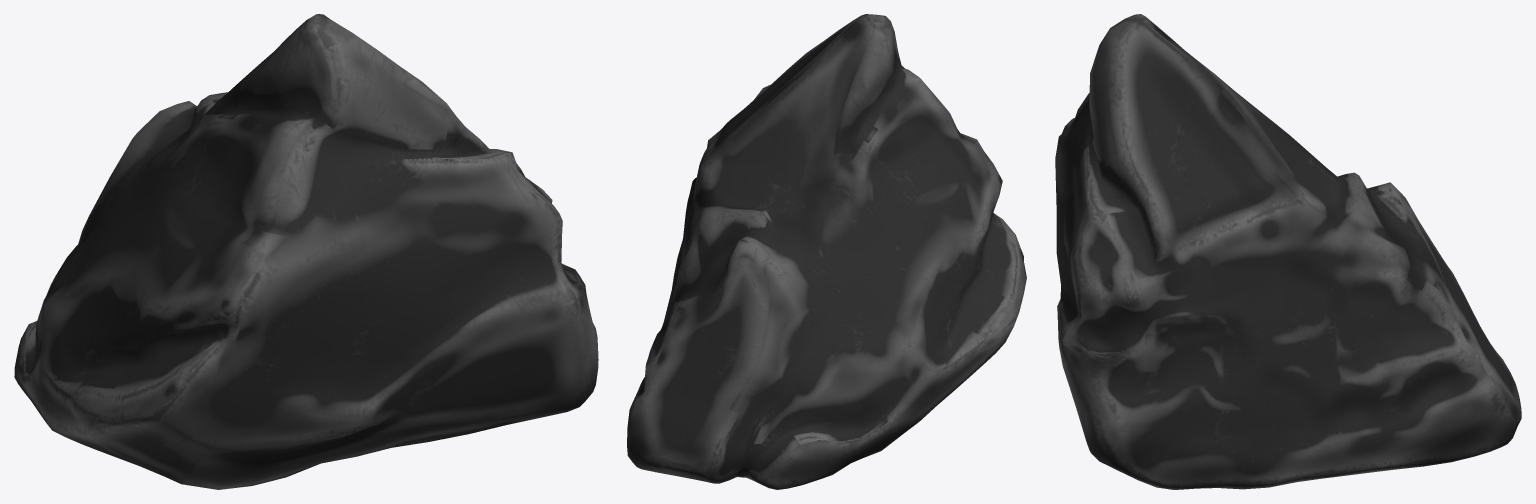
Rendered from stylized_rock_low_poly.fbx.
The picture shows the model from 3 angles, left to right: view 1: azimuth 30°, elevation 25°; view 2: azimuth 150°, elevation 25°; view 3: azimuth 270°, elevation 25°; orthographic projection. The views are drawn at different scales.
Visible parts, largest first — view 1: g; view 2: g; view 3: g.
Boxes of the visible parts, x1,y1,x2,y2 form: g: (14,14,598,489); g: (627,14,1026,489); g: (1055,14,1521,489).
Size of the model in its own units: 1.9 by 1.88 by 2.
1 material, 1 textured.
